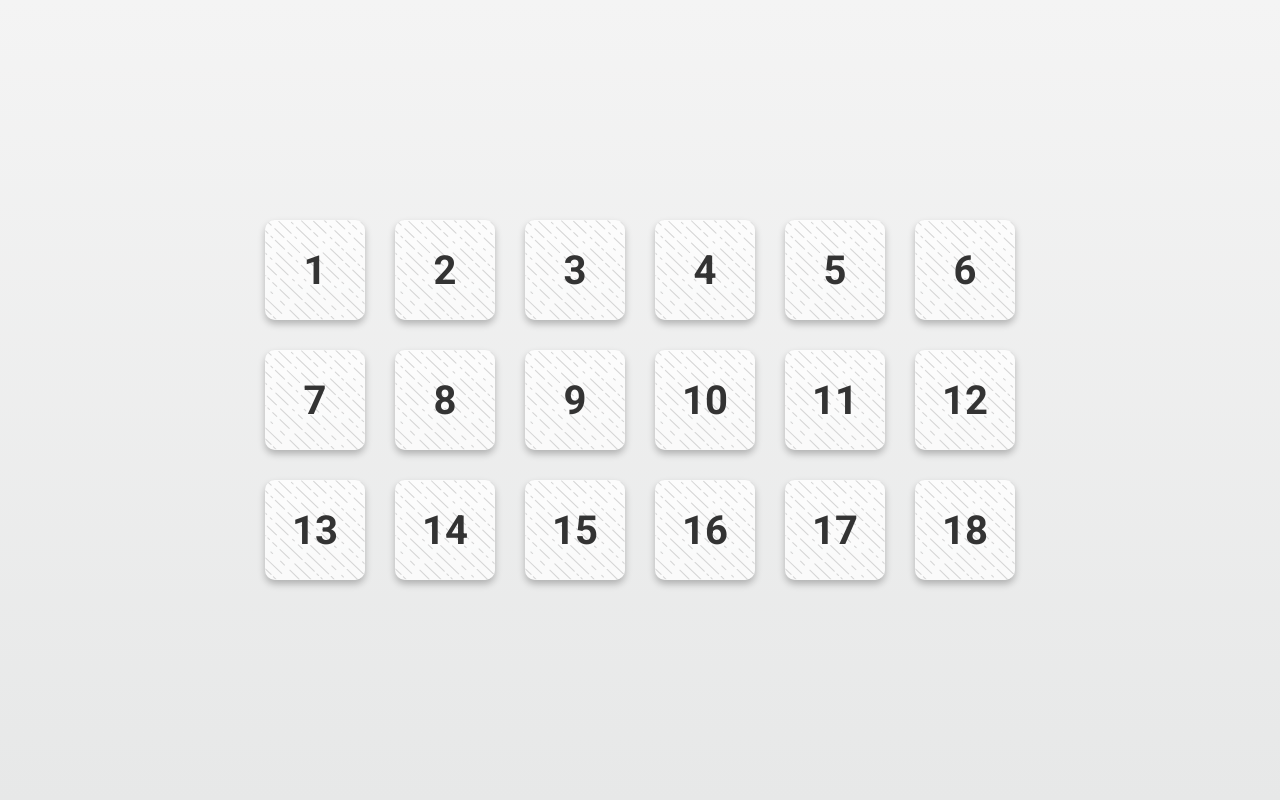
MemoryGame › flips a card when clicked
This screenshot has width=1280, height=800.
Step 1. Click the button "1" → (315, 270), box [265,220,365,320]
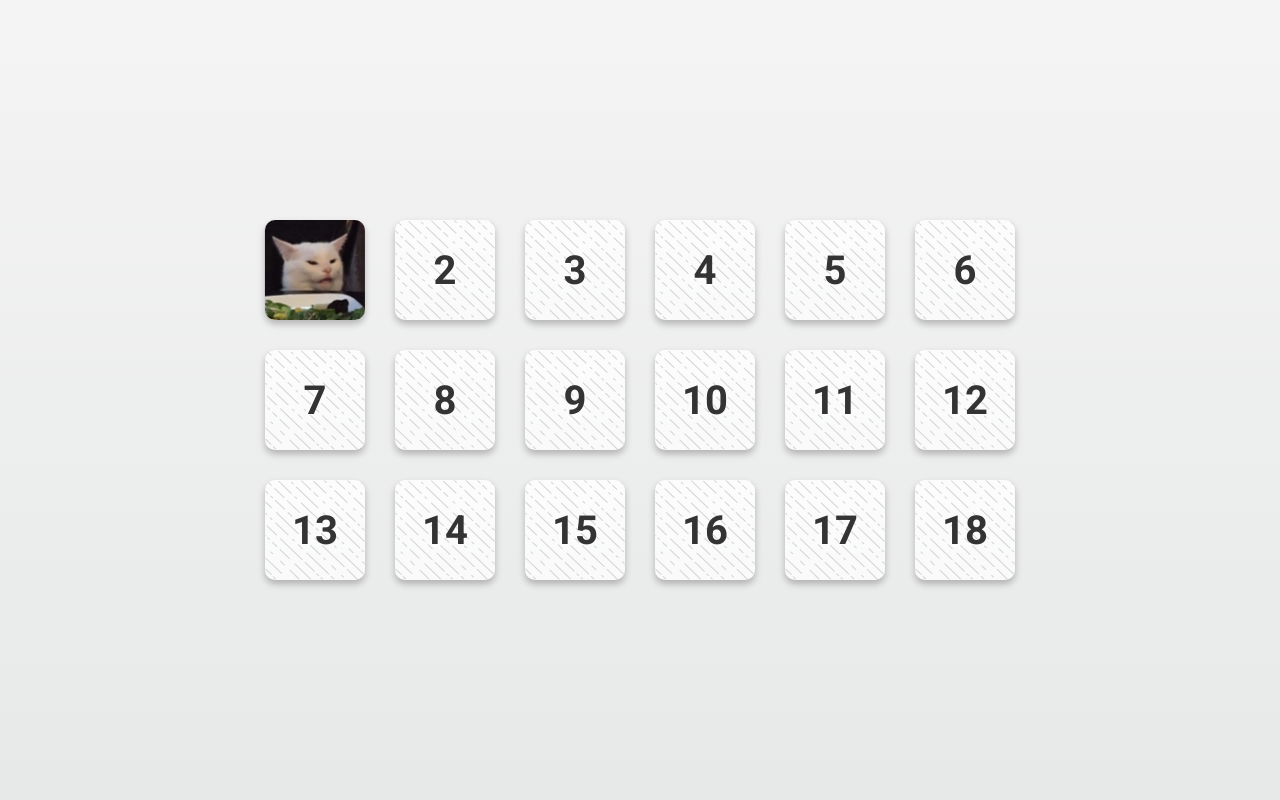
Expected: the picture with alt text "Tarjeta del reverso" is shown, [265,220,365,320]
